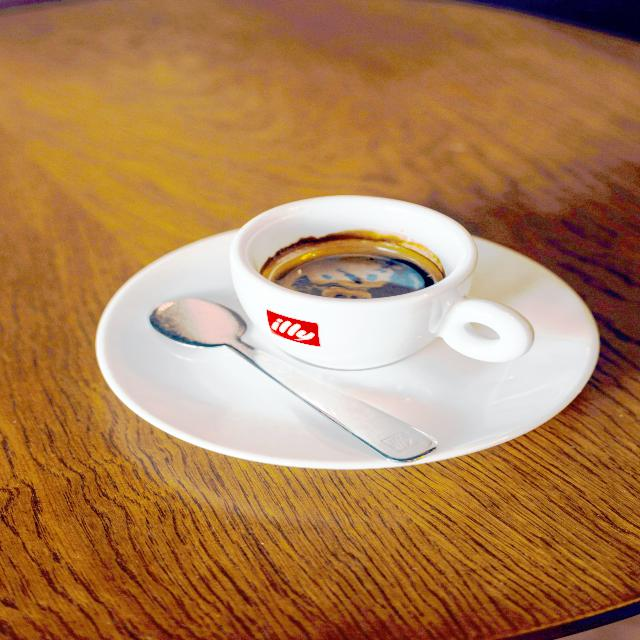drink: (222, 196, 535, 375)
